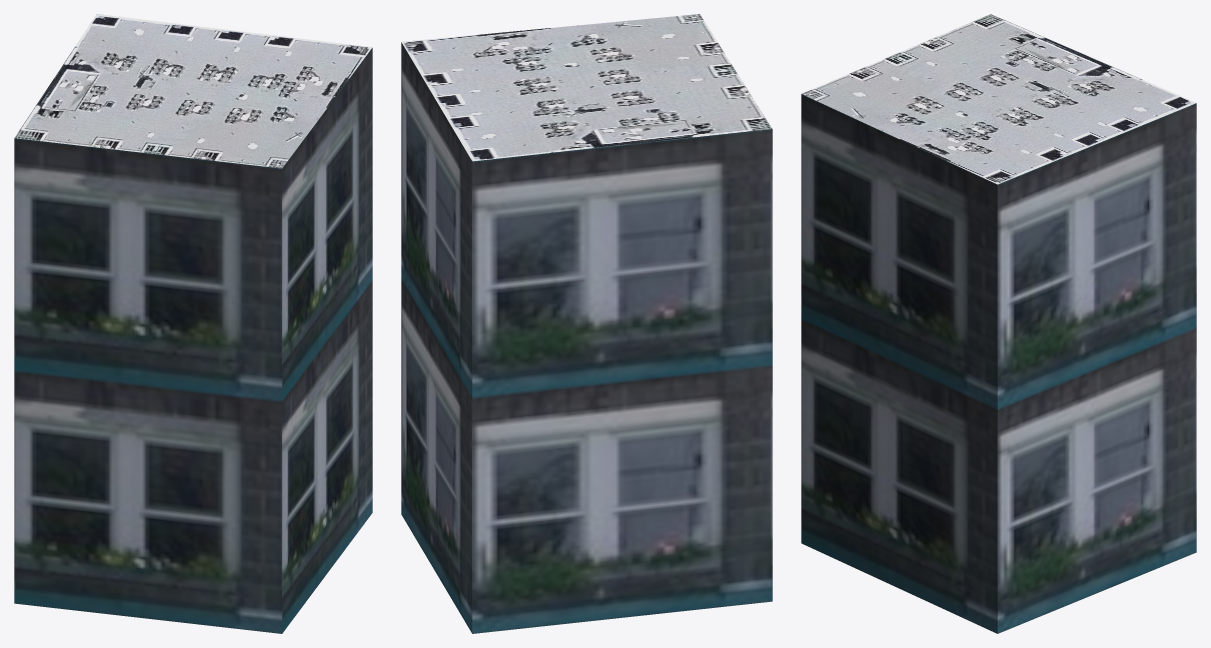
Rendered from ResTex__1248.fbx.
The picture shows the model from 3 angles, left to right: view 1: azimuth 30°, elevation 25°; view 2: azimuth 150°, elevation 25°; view 3: azimuth 270°, elevation 25°; orthographic projection. The views are drawn at different scales.
Visible parts, largest first — view 1: CityEngineMaterial_11_m, CityEngineMaterial_2_m; view 2: CityEngineMaterial_11_m, CityEngineMaterial_2_m; view 3: CityEngineMaterial_11_m, CityEngineMaterial_2_m.
Part boxes in pixels (x1,y1,x2,y2): CityEngineMaterial_11_m: (14, 48, 372, 633); CityEngineMaterial_2_m: (14, 14, 372, 168); CityEngineMaterial_11_m: (401, 42, 772, 633); CityEngineMaterial_2_m: (401, 14, 772, 161); CityEngineMaterial_11_m: (801, 94, 1196, 633); CityEngineMaterial_2_m: (802, 14, 1196, 184).
Bounding box in the file's own units: 4.89 × 6 × 4.79.
Materials: 2 (2 with a texture image).
